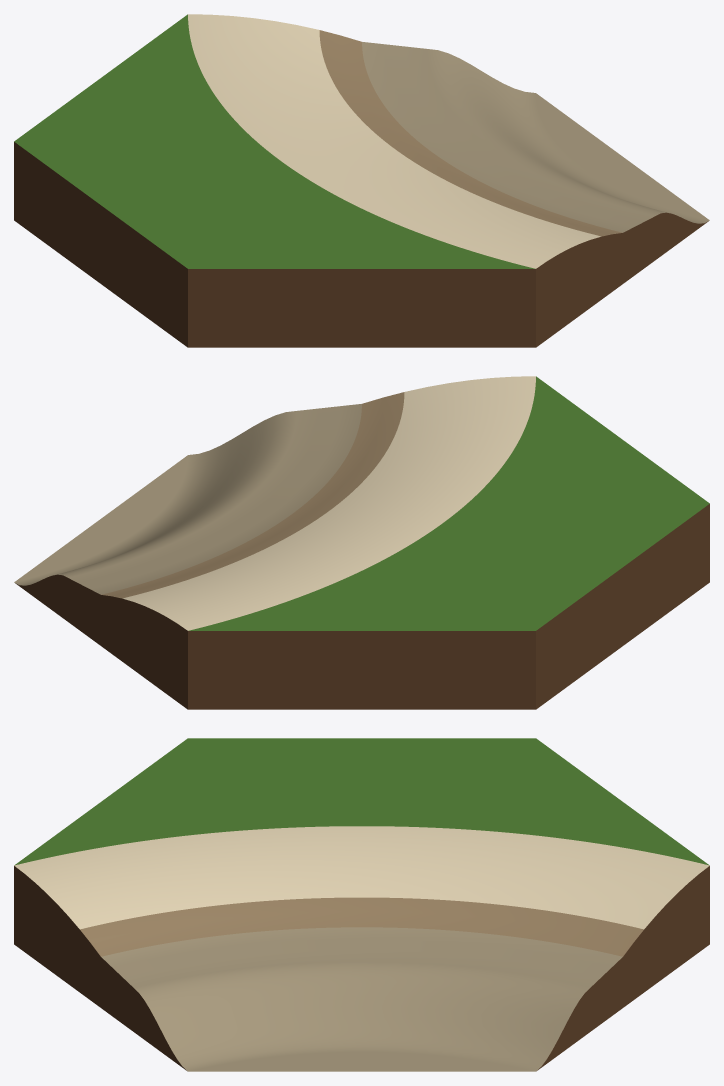
The model's file is beach_inner_base.glb.
The picture shows the model from 3 angles, top to bottom: view 1: azimuth 30°, elevation 25°; view 2: azimuth 150°, elevation 25°; view 3: azimuth 270°, elevation 25°; orthographic projection.
Visible parts, largest first — view 1: beach_inner_base_lod0; view 2: beach_inner_base_lod0; view 3: beach_inner_base_lod0.
Part boxes in pixels (x1=…): beach_inner_base_lod0: x1=14, y1=14, x2=709, y2=347; beach_inner_base_lod0: x1=14, y1=376, x2=709, y2=709; beach_inner_base_lod0: x1=14, y1=738, x2=709, y2=1071.
Size of what is drawn, in the model's own units: 27.71 by 4 by 32.
